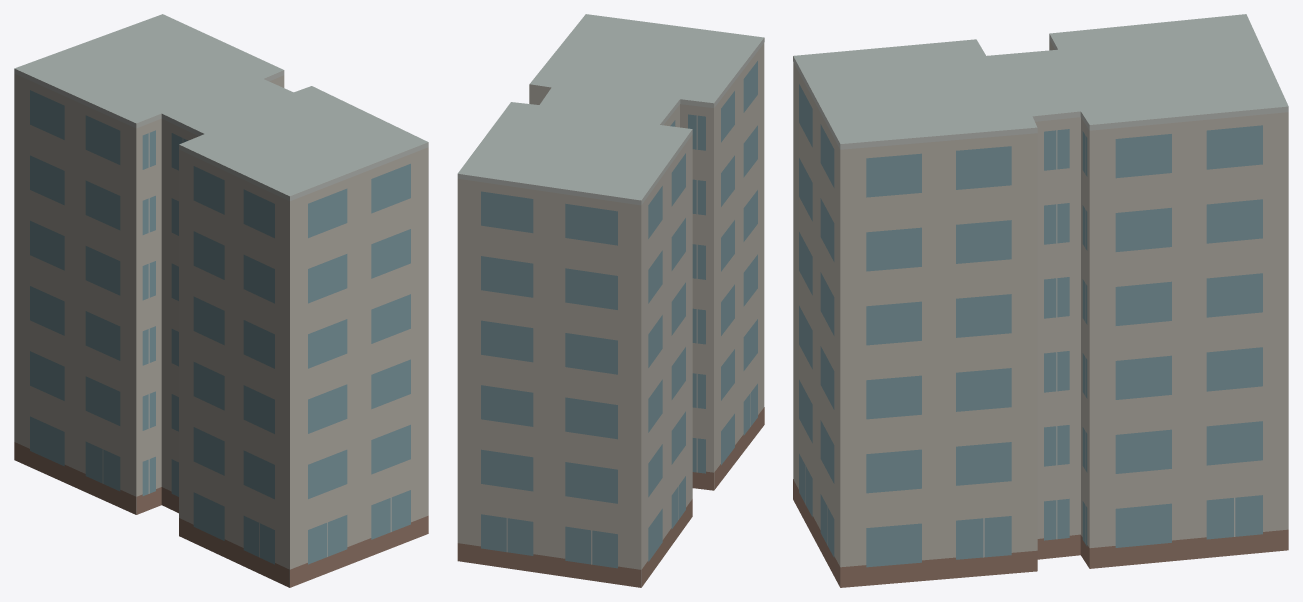
File: survey-upis-32627970.glb
The picture shows the model from 3 angles, left to right: view 1: azimuth 30°, elevation 25°; view 2: azimuth 150°, elevation 25°; view 3: azimuth 270°, elevation 25°; orthographic projection. The views are drawn at different scales.
Visible parts, largest first — view 1: survey-upis-32627970.tmp; view 2: survey-upis-32627970.tmp; view 3: survey-upis-32627970.tmp.
Part boxes in pixels (<box>): survey-upis-32627970.tmp: <box>14,14,428,587</box>; survey-upis-32627970.tmp: <box>457,14,764,587</box>; survey-upis-32627970.tmp: <box>793,14,1288,587</box>.
Bounding box in the file's own units: 12.09 × 19.2 × 19.44.
